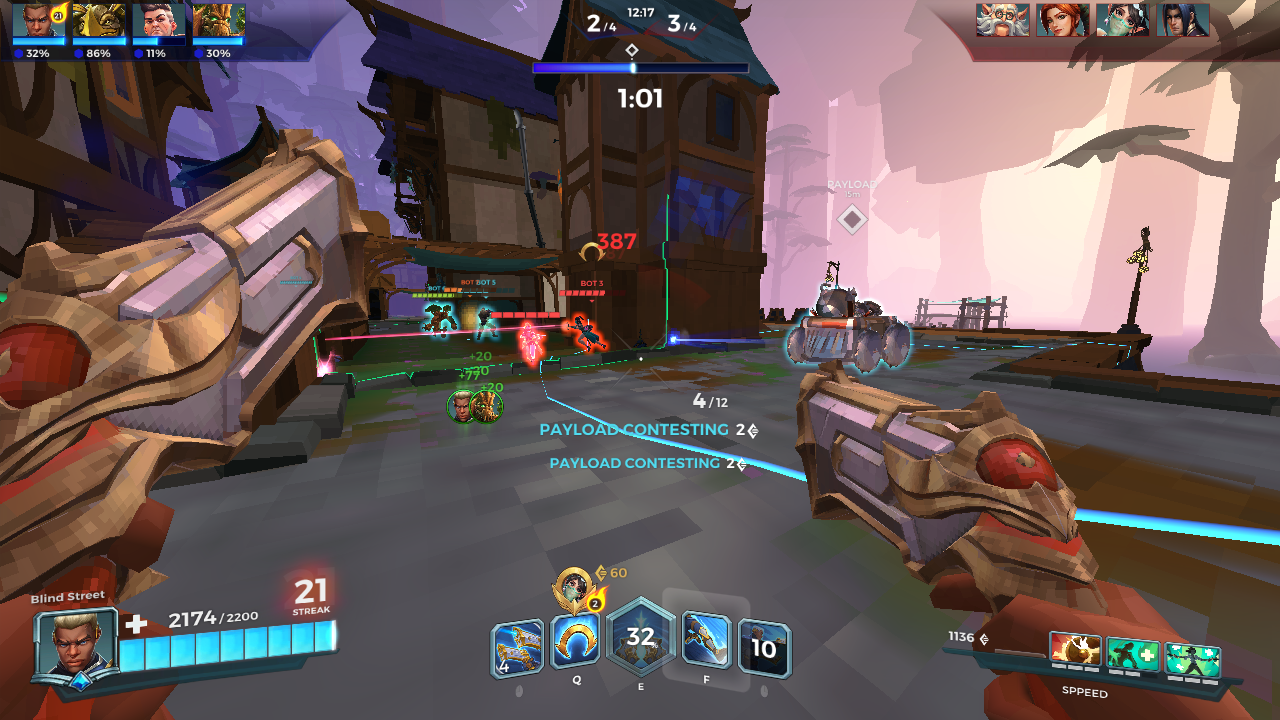model: (573, 313, 605, 358)
